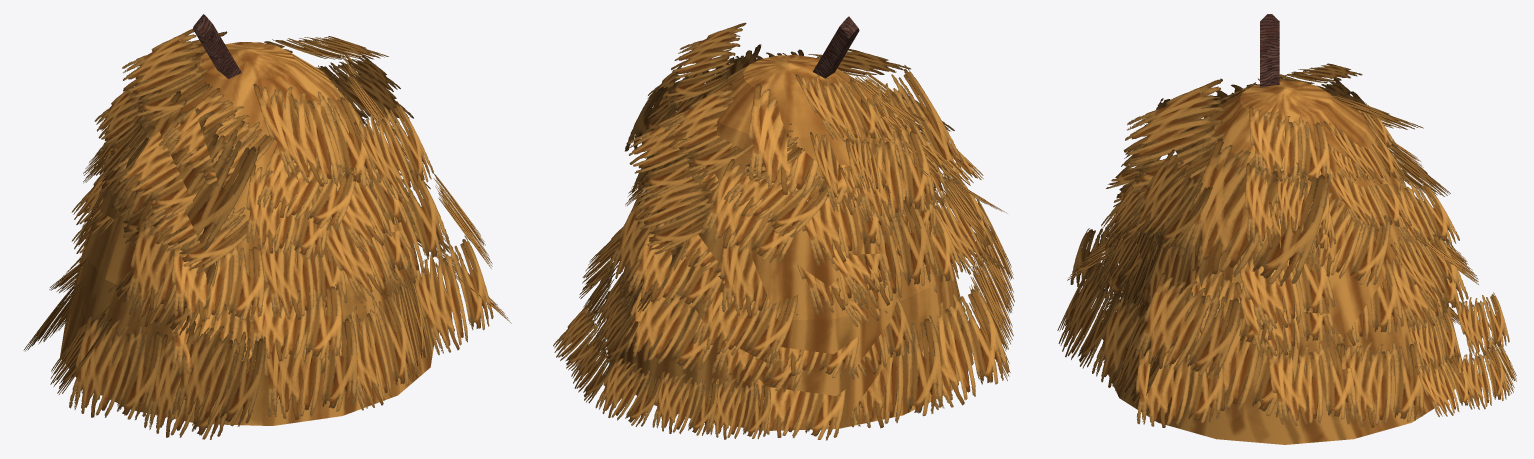
The model's file is Farm_HayStack.fbx.
The picture shows the model from 3 angles, left to right: view 1: azimuth 30°, elevation 25°; view 2: azimuth 150°, elevation 25°; view 3: azimuth 270°, elevation 25°; orthographic projection. The views are drawn at different scales.
Parts seen in each view (by area): view 1: polySurface86, pDisc1; view 2: polySurface86, pDisc1; view 3: polySurface86, pDisc1.
Boxes of the visible parts, x1,y1,x2,y2 form: polySurface86: (23,14,511,439); pDisc1: (60,42,434,425); polySurface86: (553,16,1014,440); pDisc1: (607,55,973,430); polySurface86: (1057,14,1516,427); pDisc1: (1108,80,1462,444).
Bounding box in the file's own units: 90.09 × 72.5 × 91.04.
